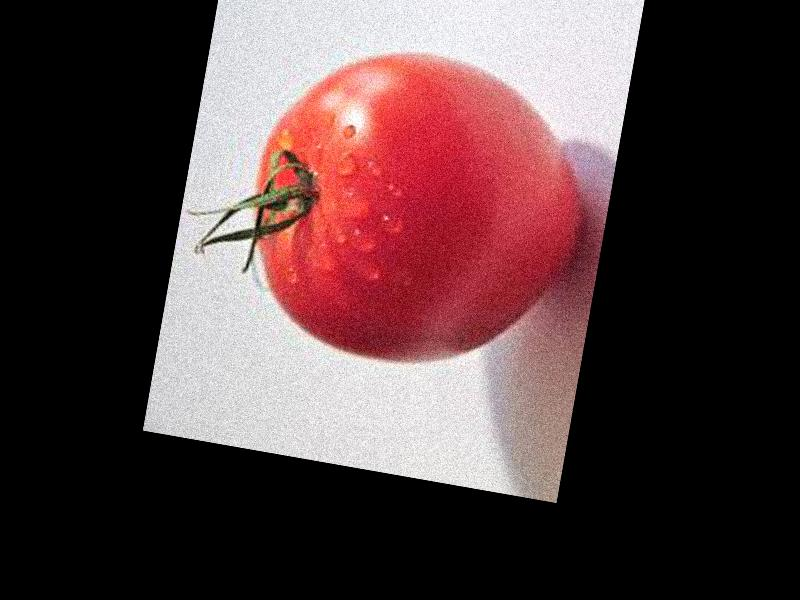Tomato: (234, 29, 604, 388)
